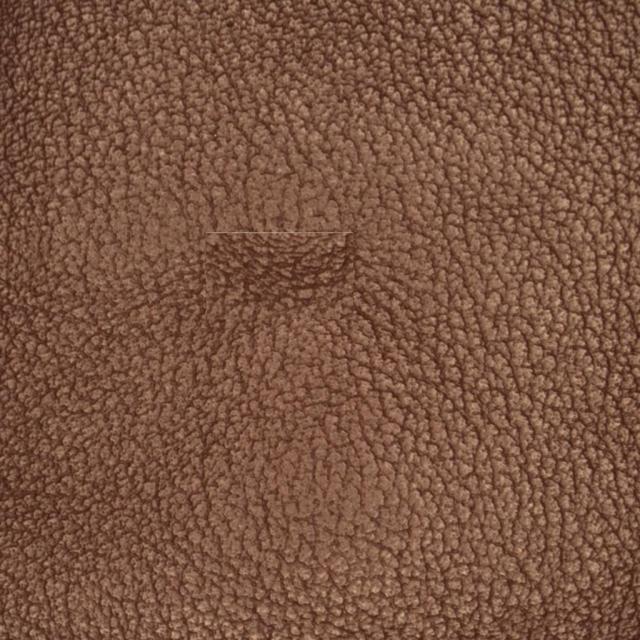Healed Injury: (171, 190, 408, 346)
